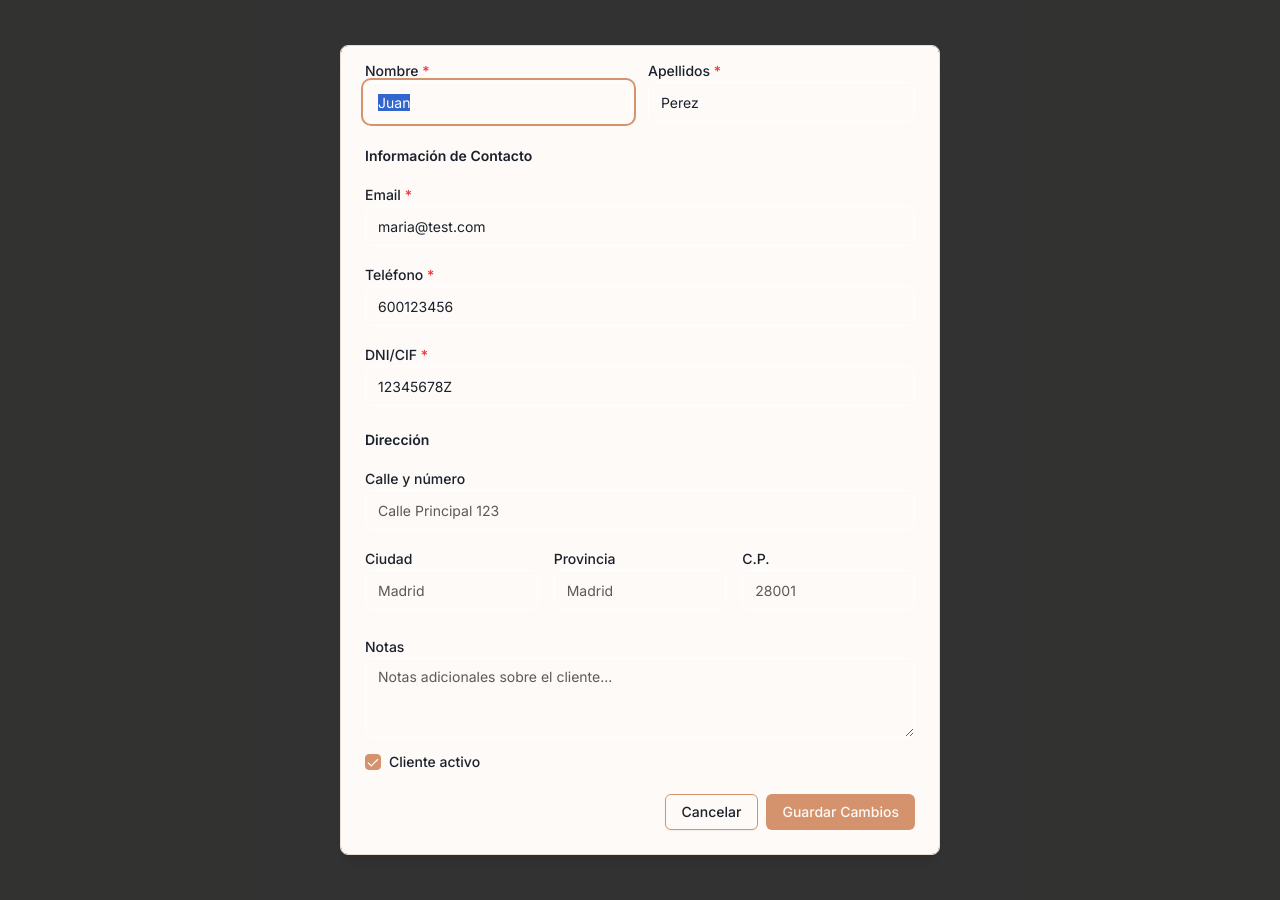
Test: EditClientModal › handles api error
(page scrolled)
Click the button "Guardar Cambios": (841, 812) [766,794,915,830]
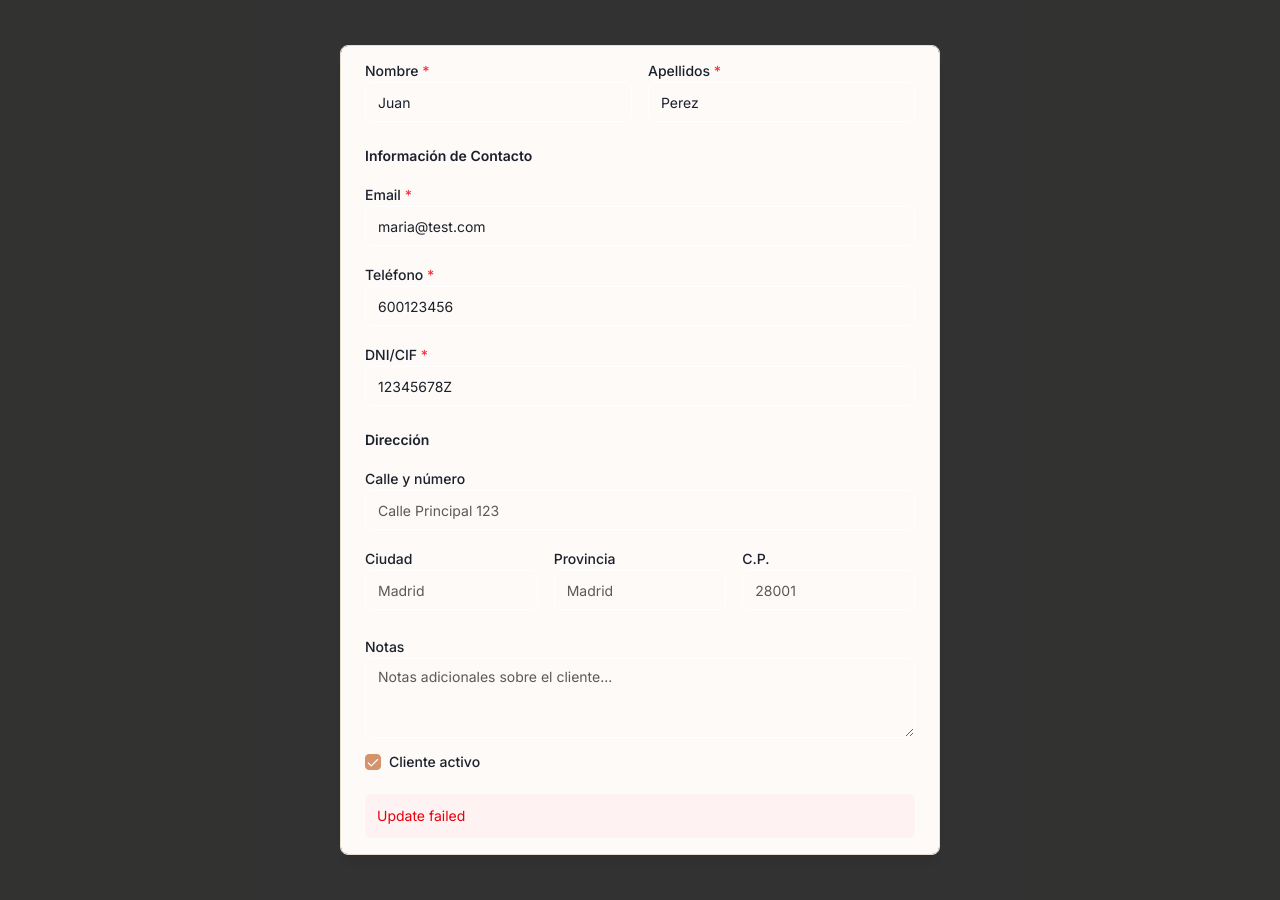
Now the text "Update failed" is shown, box [377,807,465,824]
